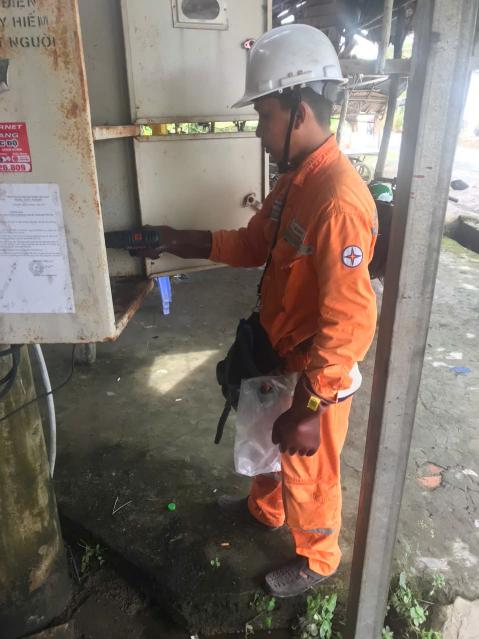gloves: (115, 206, 233, 273), (268, 381, 338, 462)
helmet: (207, 28, 374, 111)
shoes: (252, 544, 346, 602), (208, 492, 292, 534)
